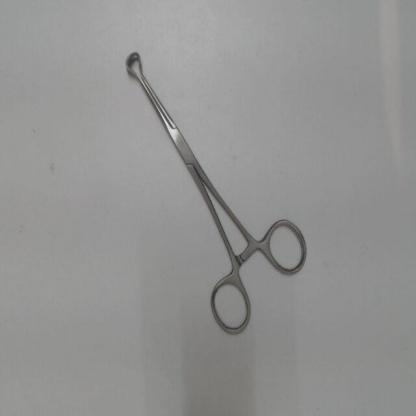Babcock Tissue Forceps: (123, 46, 312, 341)
